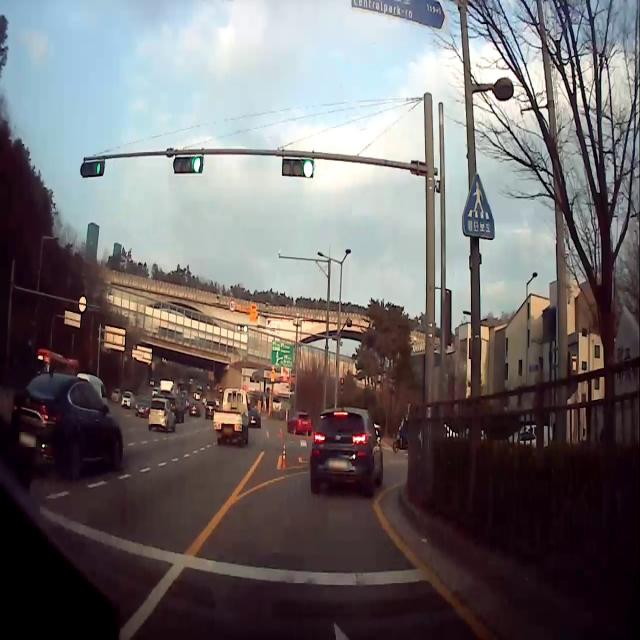Green Light: (192, 155, 203, 175), (303, 160, 314, 177), (96, 159, 102, 176)
